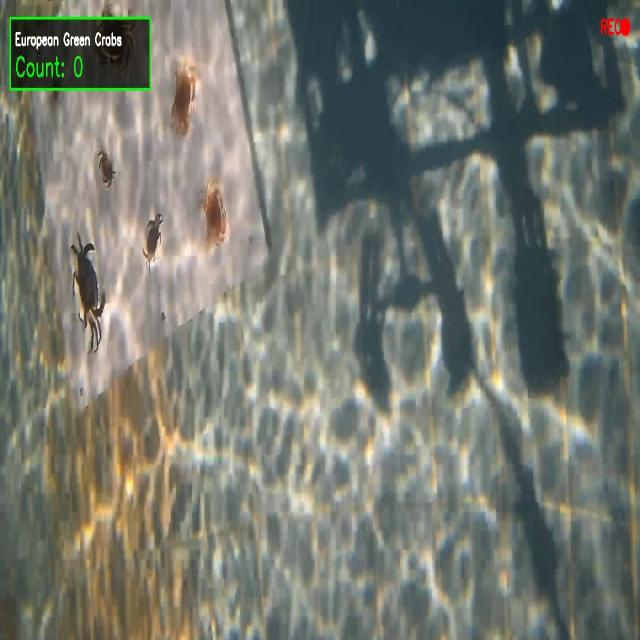European_Green_Crab: (60, 222, 115, 360), (135, 205, 170, 280)
